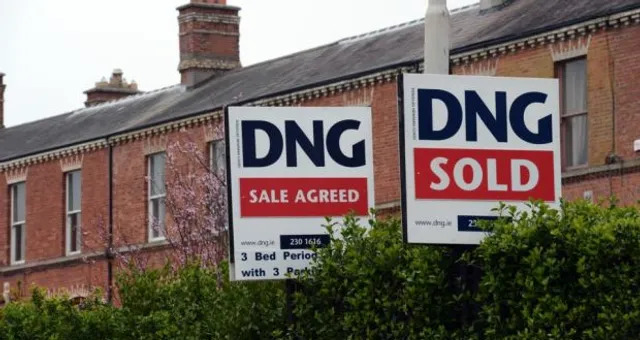property sign: (381, 56, 586, 267), (222, 92, 377, 290)
